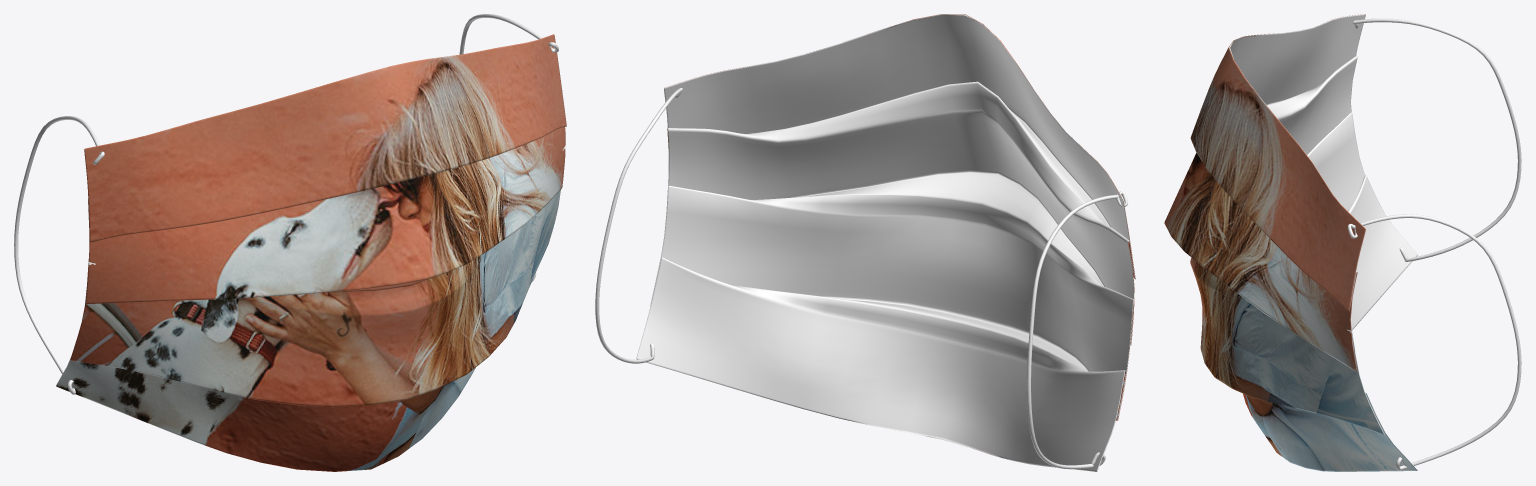
The model's file is facemask.glb.
3 renders of one model, left to right at view 1: azimuth 30°, elevation 25°; view 2: azimuth 150°, elevation 25°; view 3: azimuth 270°, elevation 25°, orthographic. The views are drawn at different scales.
Parts seen in each view (by area): view 1: facemask; view 2: facemask; view 3: facemask.
Boxes of the visible parts, x1,y1,x2,y2 form: facemask: (14, 14, 566, 471); facemask: (595, 14, 1135, 471); facemask: (1164, 14, 1521, 471).
Size of the model in its own units: 15.16 by 12.69 by 10.45.
1 material, 1 textured.
